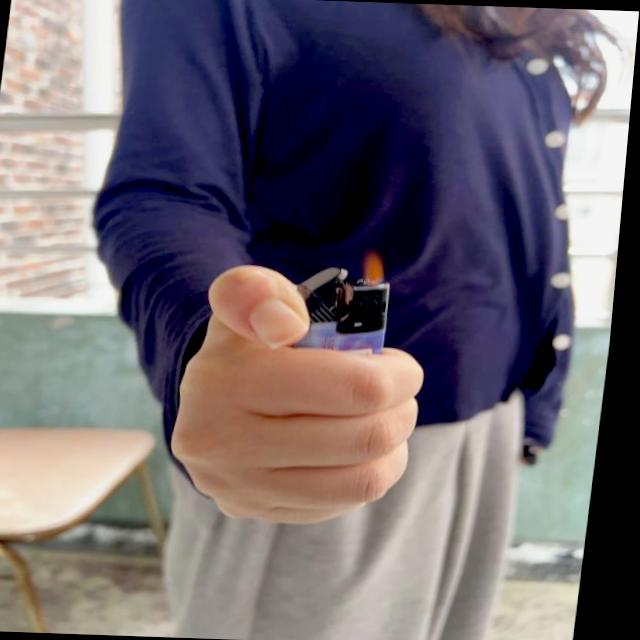Fire: (363, 246, 397, 286)
